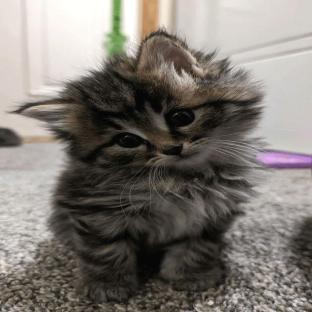Animal: (12, 29, 266, 302)
